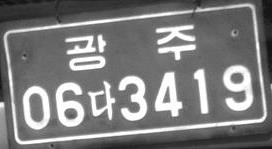0: (21, 84, 51, 131)
1: (186, 67, 215, 114)
3: (117, 74, 149, 121)
4: (153, 71, 182, 118)
6: (54, 80, 85, 128)
9: (221, 63, 254, 112)
광주_D: (64, 23, 196, 71)
다: (87, 80, 116, 120)
